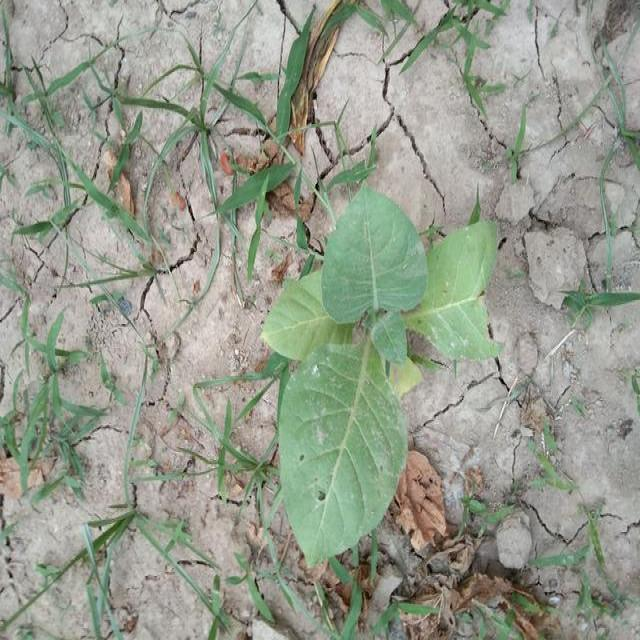crop: (264, 196, 498, 558)
